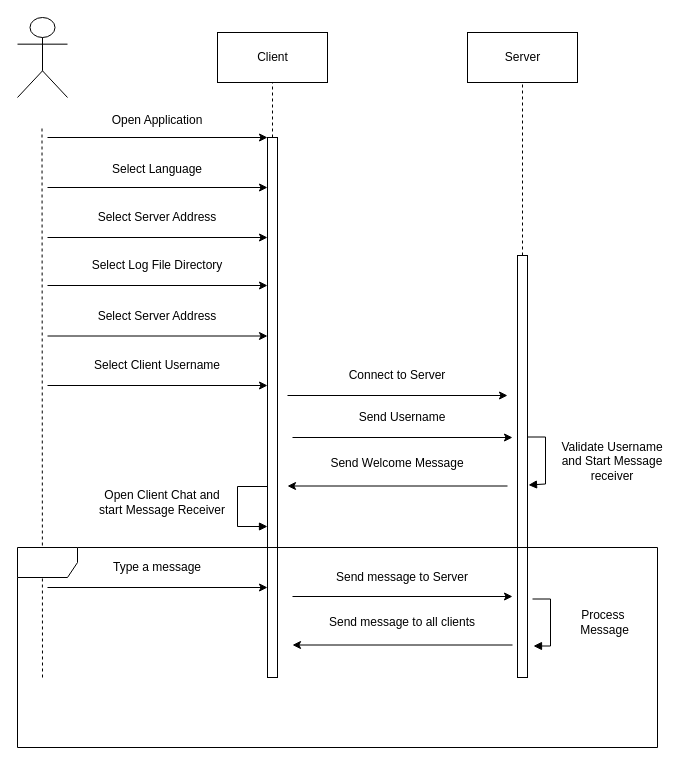
The diagram is 695 pixels wide and 765 high, and some of its shapes have lost their labels. The box of each missing label's shape, as (x1, y1, x2, y2) in pixels:
OPT: (16, 546, 658, 748)
User: (16, 16, 68, 98)
